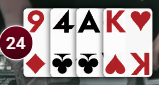4: (49, 8, 75, 35)
9: (24, 8, 48, 36)
a: (75, 8, 103, 36)
k: (103, 8, 130, 36)
